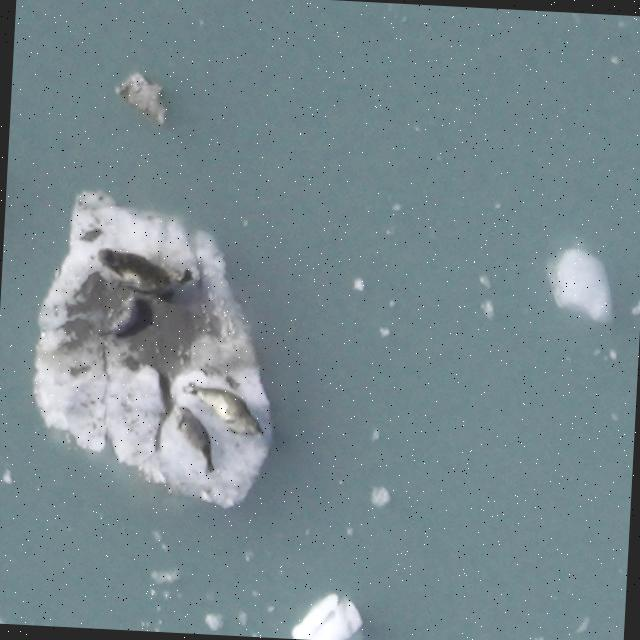seal: (173, 380, 270, 442), (87, 247, 197, 299), (164, 403, 220, 482), (96, 283, 151, 344)
